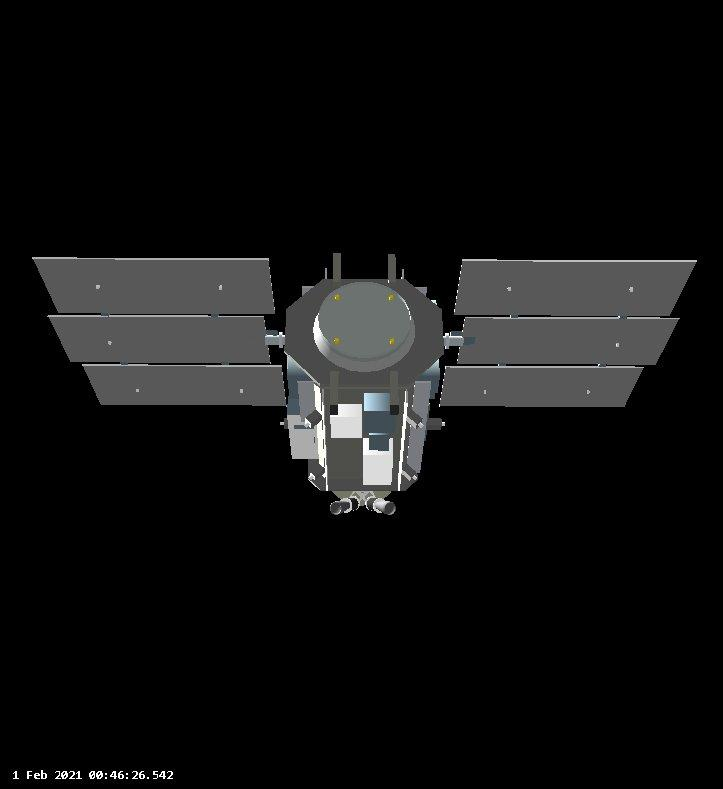body: (286, 278, 444, 492)
solar: (29, 254, 278, 316), (454, 258, 698, 319), (48, 315, 275, 365), (459, 317, 680, 366), (83, 363, 290, 408), (438, 366, 647, 408)
thruster: (369, 498, 399, 517), (327, 499, 351, 519)
